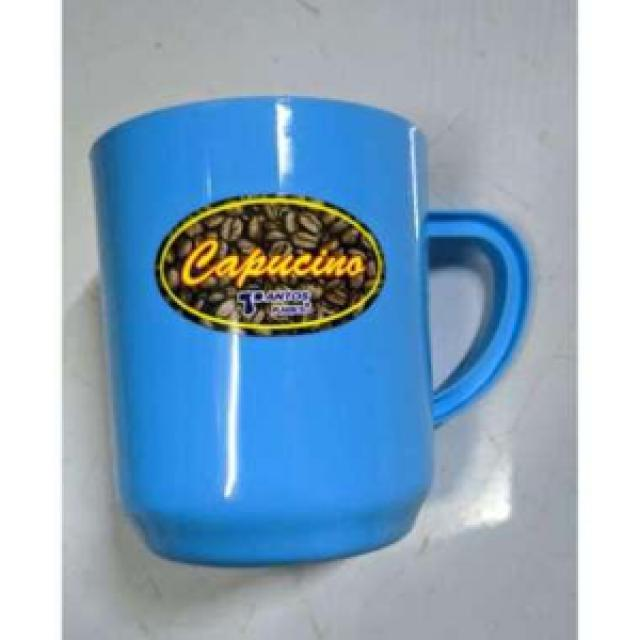plastic cup: (81, 94, 540, 576)
